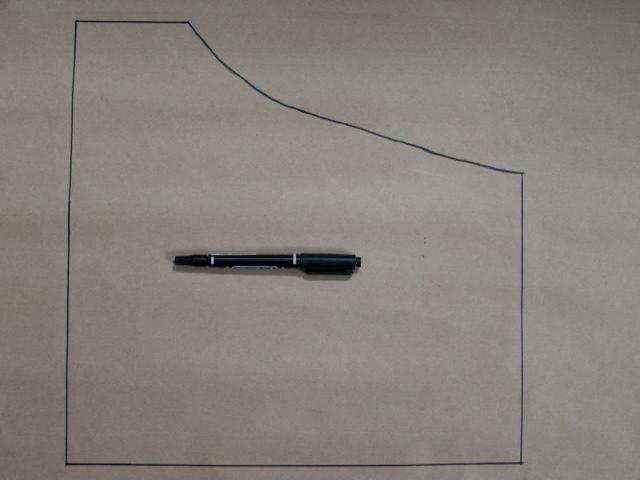PEN: (166, 241, 366, 287)
